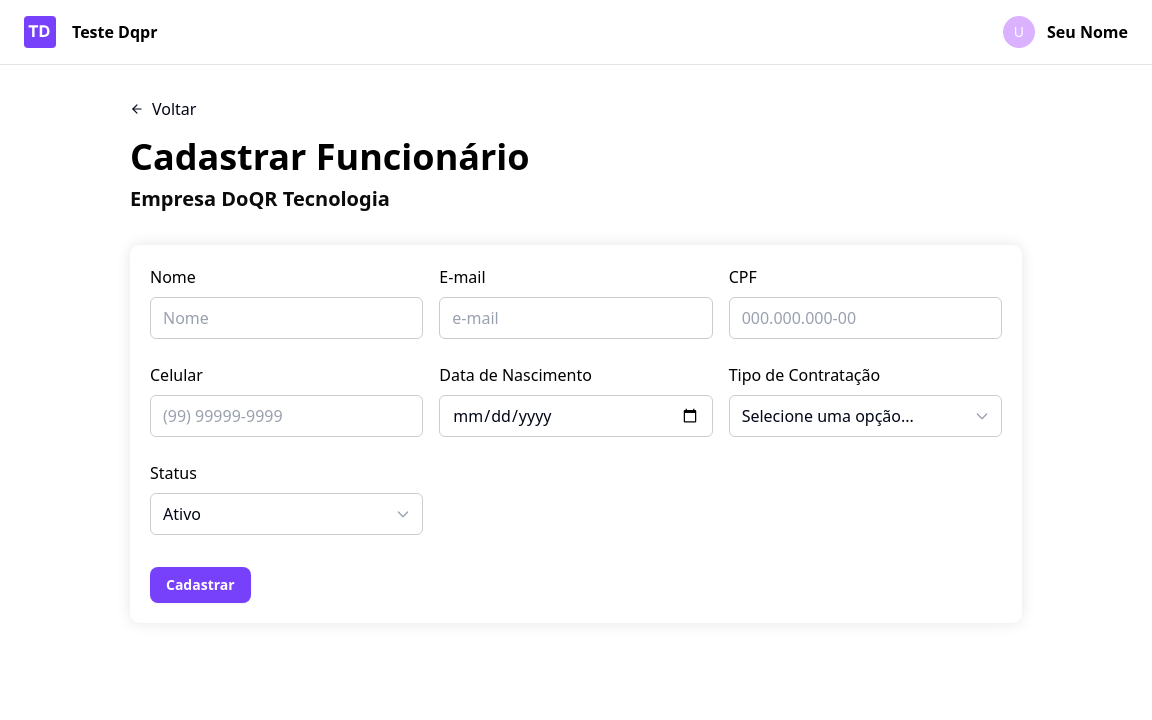
Test case: Employee Form › Create Employee Form › shows validation errors for empty fields
What coordinates should you click on to do the following:
click the button with test id "create-button"
I would click on:
 (201, 585)
Its box is [150,567,251,603].
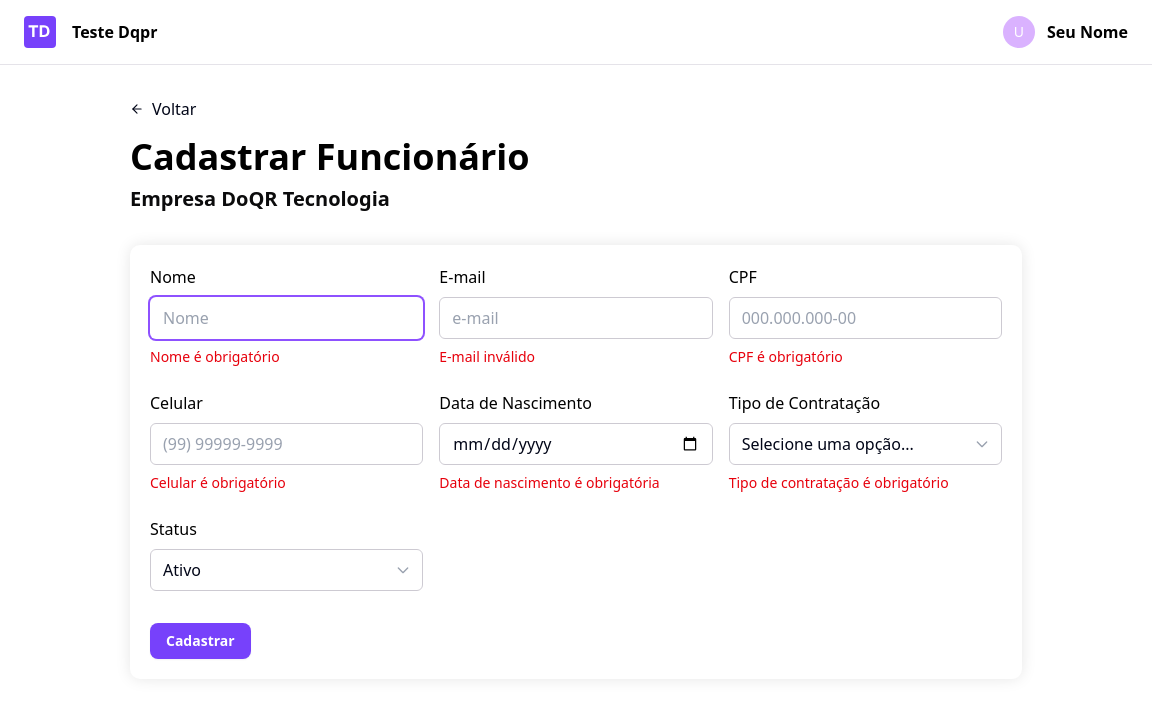
expect the text "Nome é obrigatório" is shown: met, box [150,347,280,366]
expect the text "E-mail inválido" is shown: met, box [439,347,535,366]
expect the text "CPF é obrigatório" is shown: met, box [729,347,843,366]
